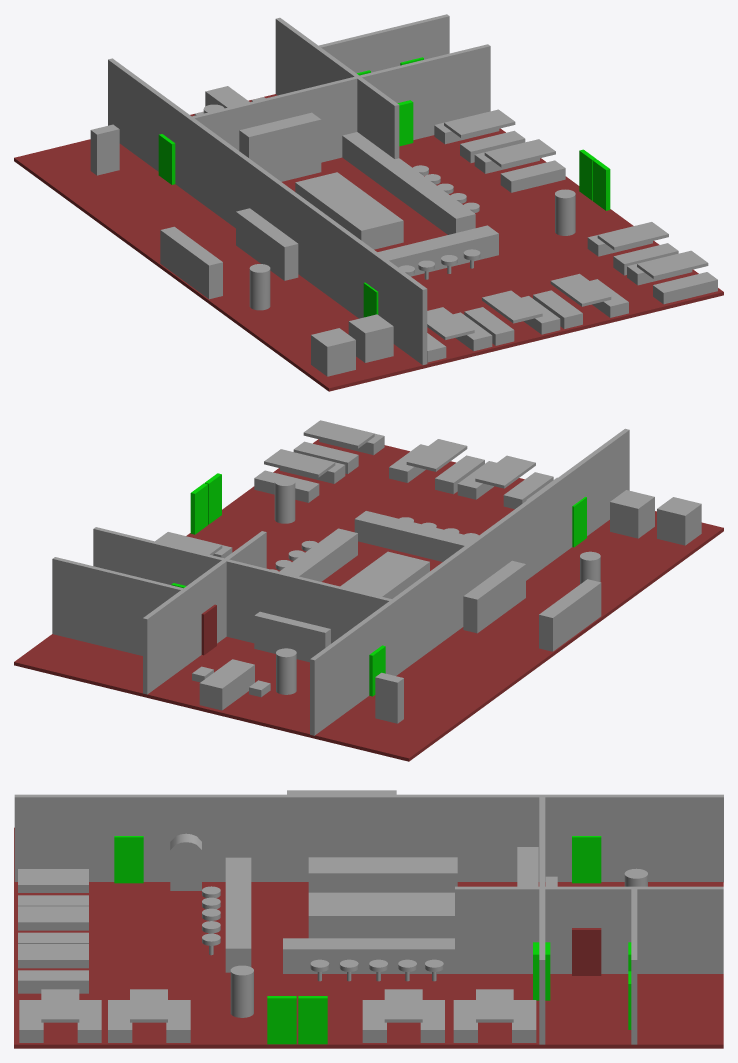
The model's file is DinerNew.fbx.
The picture shows the model from 3 angles, top to bottom: view 1: azimuth 30°, elevation 25°; view 2: azimuth 150°, elevation 25°; view 3: azimuth 270°, elevation 25°; orthographic projection. The views are drawn at different scales.
Parts seen in each view (by area): view 1: pCube191; view 2: pCube191; view 3: pCube191.
Boxes of the visible parts, x1,y1,x2,y2 form: pCube191: [14, 14, 723, 391]; pCube191: [14, 420, 723, 761]; pCube191: [14, 790, 723, 1048].
Bounding box in the file's own units: 78.64 × 14.95 × 109.
